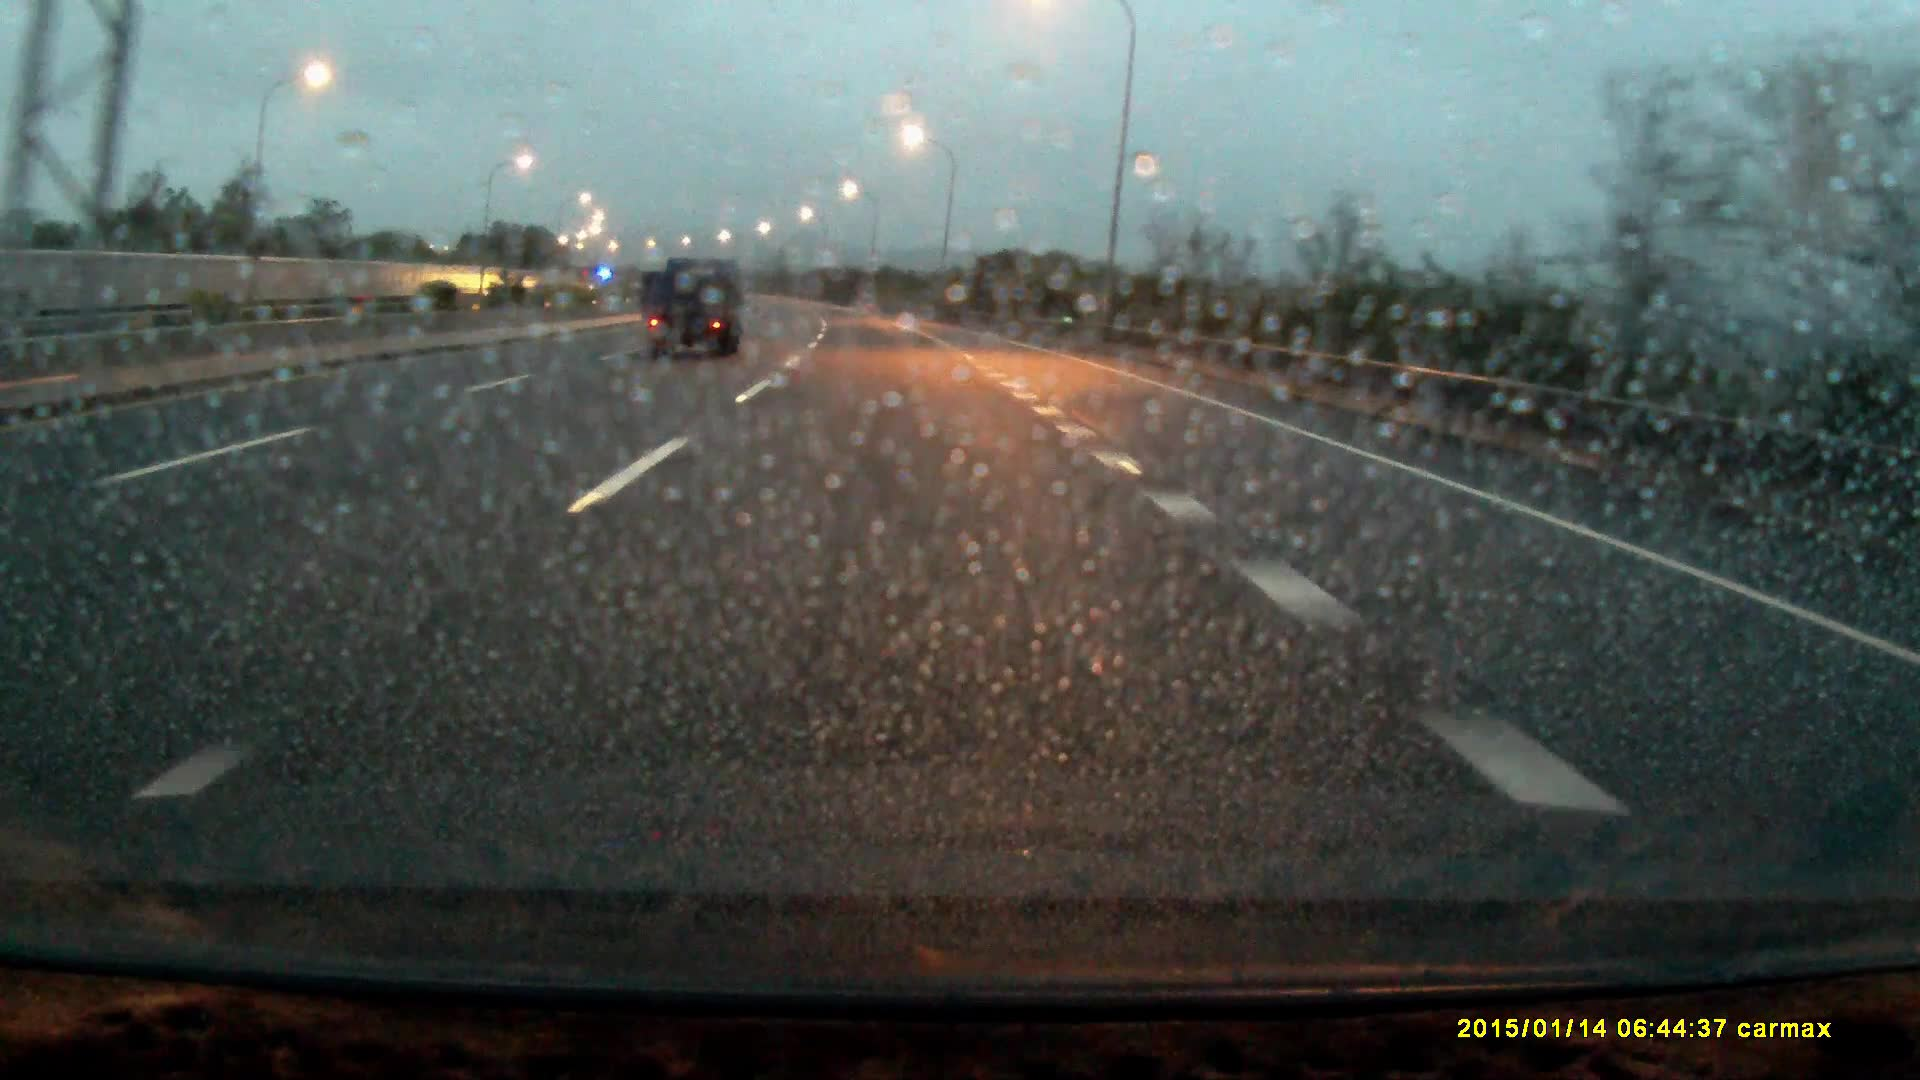vehicle: (644, 255, 746, 367)
